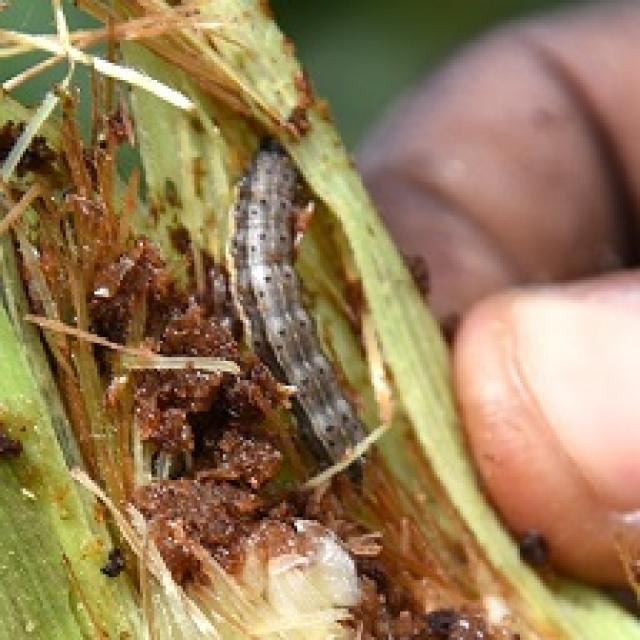worm: (224, 135, 384, 487)
